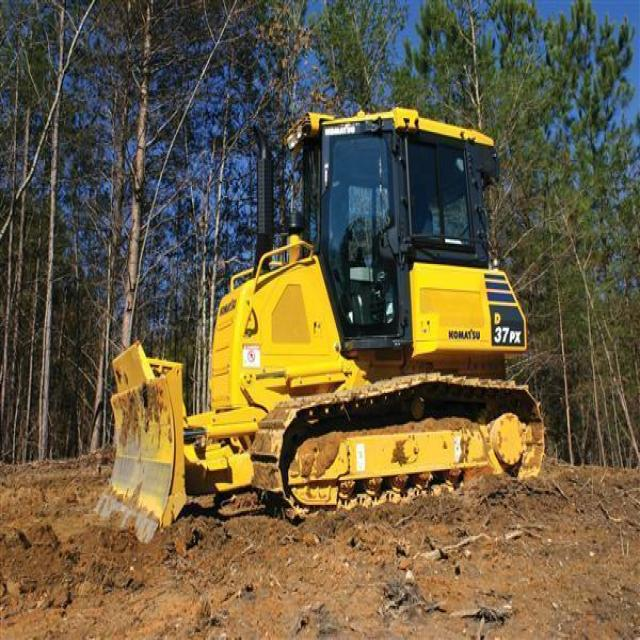Bulldozer: (97, 102, 552, 561)
